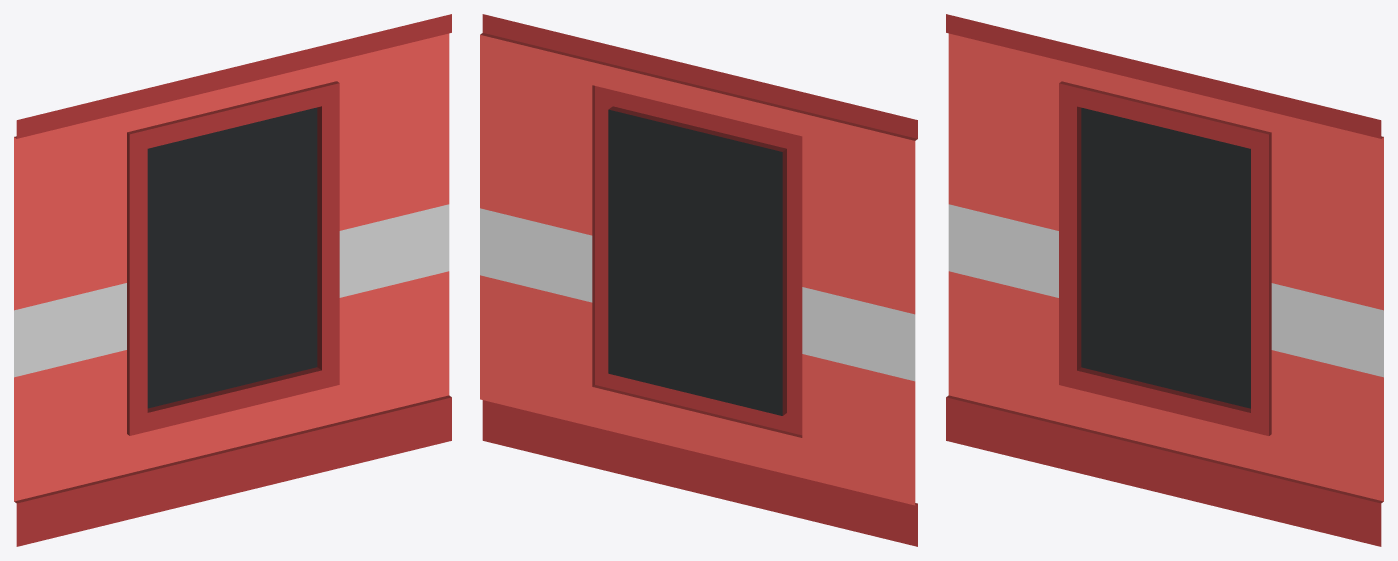
File: WallWindow2.glb
3 renders of one model, left to right at view 1: azimuth 30°, elevation 25°; view 2: azimuth 150°, elevation 25°; view 3: azimuth 330°, elevation 25°, orthographic.
Visible parts, largest first — view 1: SI_Env_Wall_Window_02; view 2: SI_Env_Wall_Window_02; view 3: SI_Env_Wall_Window_02.
Part boxes in pixels (x1,y1,x2,y2): SI_Env_Wall_Window_02: (14, 14, 451, 546); SI_Env_Wall_Window_02: (480, 14, 917, 546); SI_Env_Wall_Window_02: (946, 14, 1383, 546).
Size of the model in its own units: 0.05 by 0.0469 by 0.000885.
Materials: 1 (1 with a texture image).
